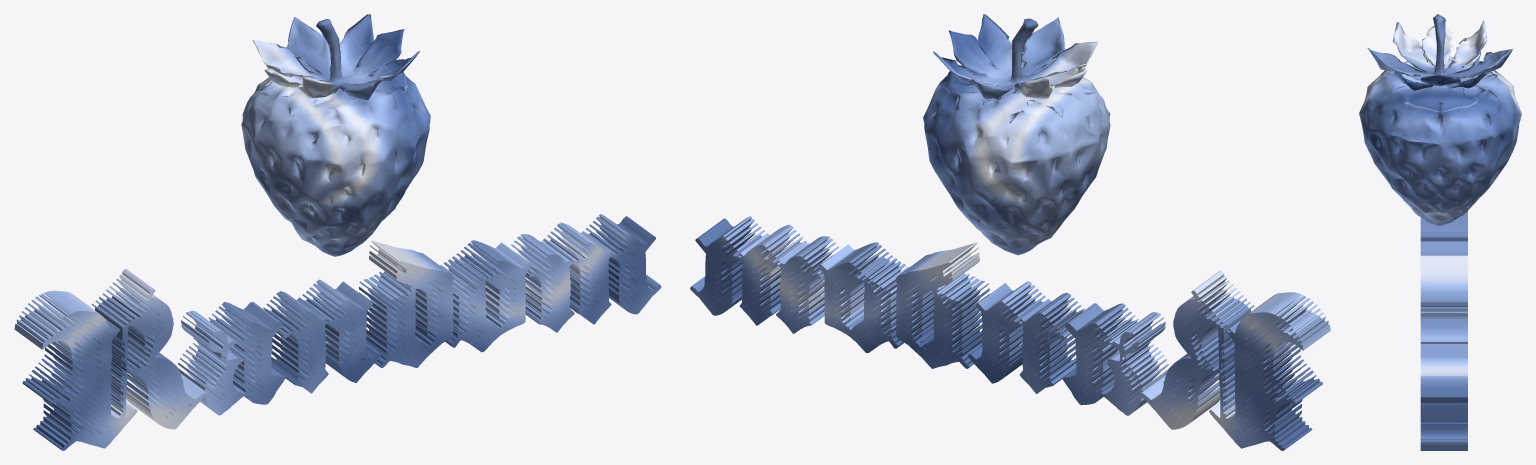
Rendered from random.glb.
The picture shows the model from 3 angles, left to right: view 1: azimuth 30°, elevation 25°; view 2: azimuth 150°, elevation 25°; view 3: azimuth 270°, elevation 25°; orthographic projection. The views are drawn at different scales.
Parts seen in each view (by area): view 1: Random, Mesh1; view 2: Random, Mesh1; view 3: Mesh1, Random.
Boxes of the visible parts, <box> form: Random: <box>14,214,661,450</box>; Mesh1: <box>241,14,430,256</box>; Random: <box>690,216,1330,450</box>; Mesh1: <box>923,14,1110,255</box>; Mesh1: <box>1359,14,1521,226</box>; Random: <box>1420,211,1467,450</box>.
Size of the model in its own units: 5.38 by 3.02 by 1.43.
Materials: 2 (2 with a texture image).
